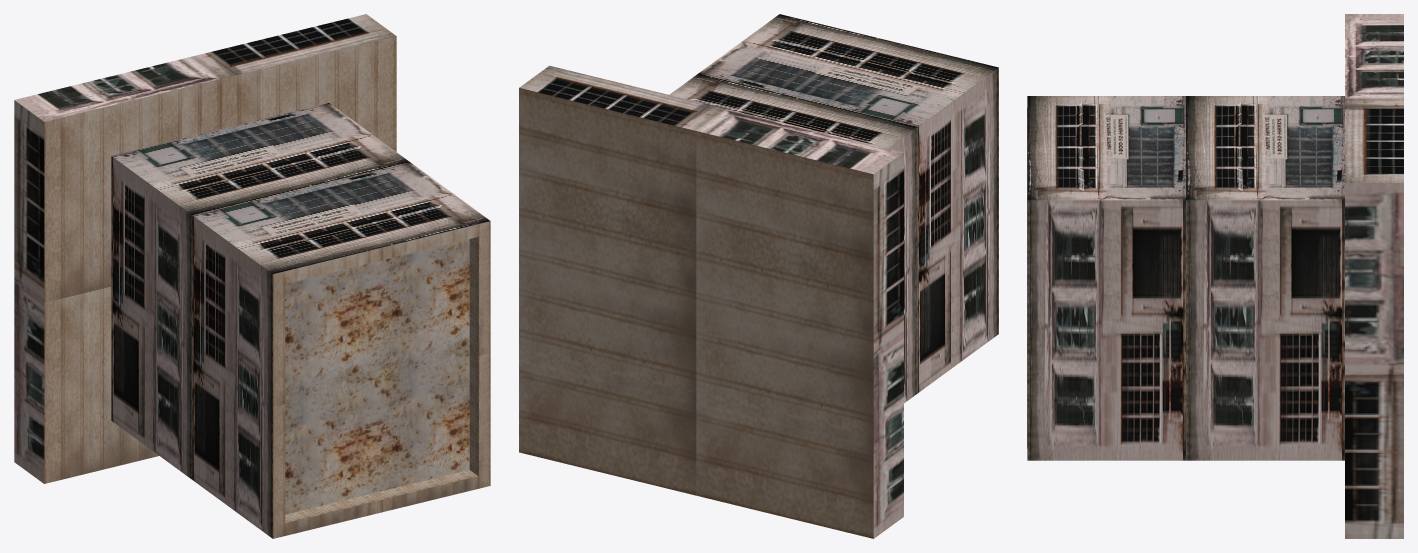
File: urbanoffice3Ba_wtf.obj
The picture shows the model from 3 angles, left to right: view 1: azimuth 30°, elevation 25°; view 2: azimuth 150°, elevation 25°; view 3: azimuth 270°, elevation 25°; orthographic projection. The views are drawn at different scales.
Parts seen in each view (by area): view 1: group5, group3, group4; view 2: group3, group5; view 3: group5.
Boxes of the visible parts, bbox=[...] form: group5: bbox=[14, 14, 490, 538]; group3: bbox=[44, 36, 490, 538]; group4: bbox=[285, 239, 469, 514]; group3: bbox=[519, 88, 873, 538]; group5: bbox=[519, 14, 998, 538]; group5: bbox=[1027, 14, 1403, 538].
Bounding box in the file's own units: 660 × 648 × 622.
